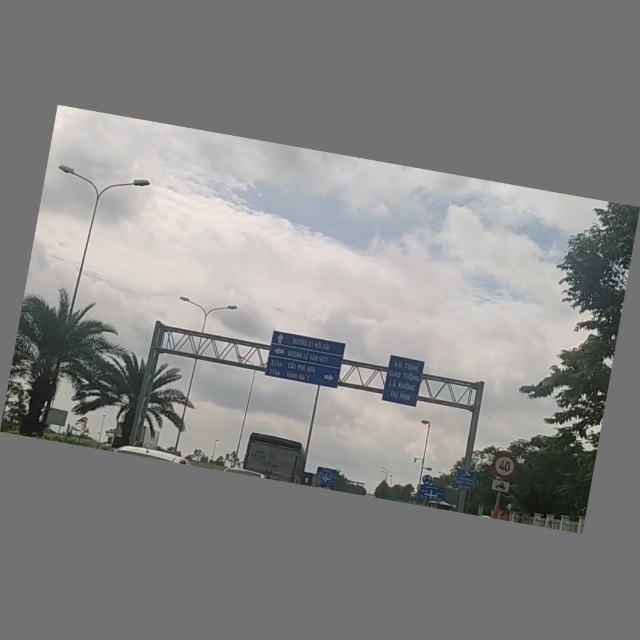P.127*40: (490, 452, 519, 481)
S.505a*Xe may: (488, 478, 512, 496)
